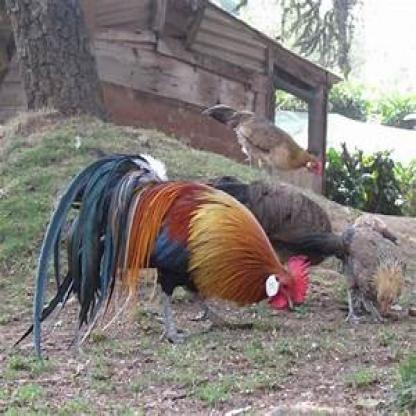chicken: (32, 151, 312, 362), (204, 100, 327, 180), (342, 220, 406, 332)
